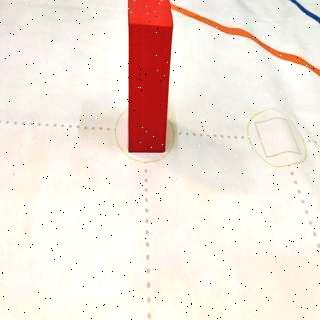redbox: (127, 1, 175, 153)
